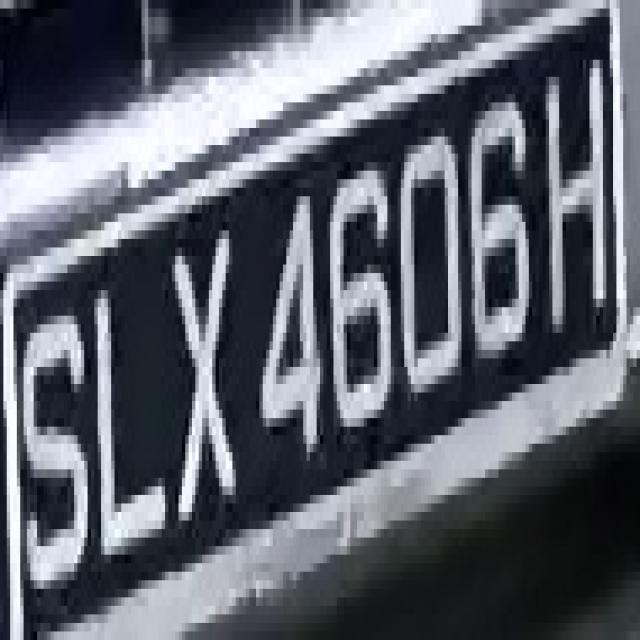0: (384, 120, 461, 410)
4: (252, 162, 334, 487)
6: (465, 68, 539, 393), (333, 120, 401, 452)
H: (536, 60, 613, 367)
L: (91, 247, 168, 589)
S: (14, 264, 94, 632)
X: (165, 213, 256, 546)
